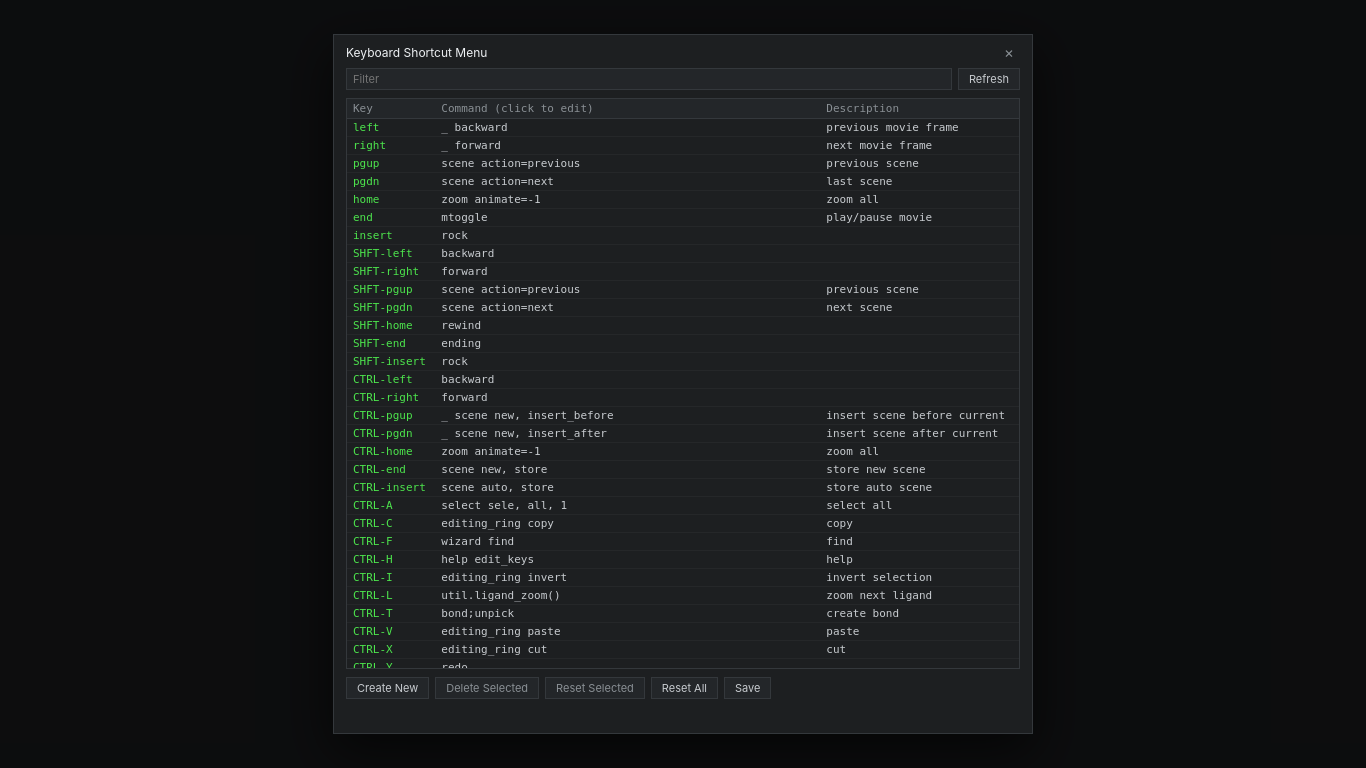
Scenario: row 455 — the filterable three-column table › Refresh re-reads the LIVE bindings, not the compiled-in defaults
The image size is (1366, 768).
Click the button "Refresh": (989, 79) [958, 68, 1020, 90]
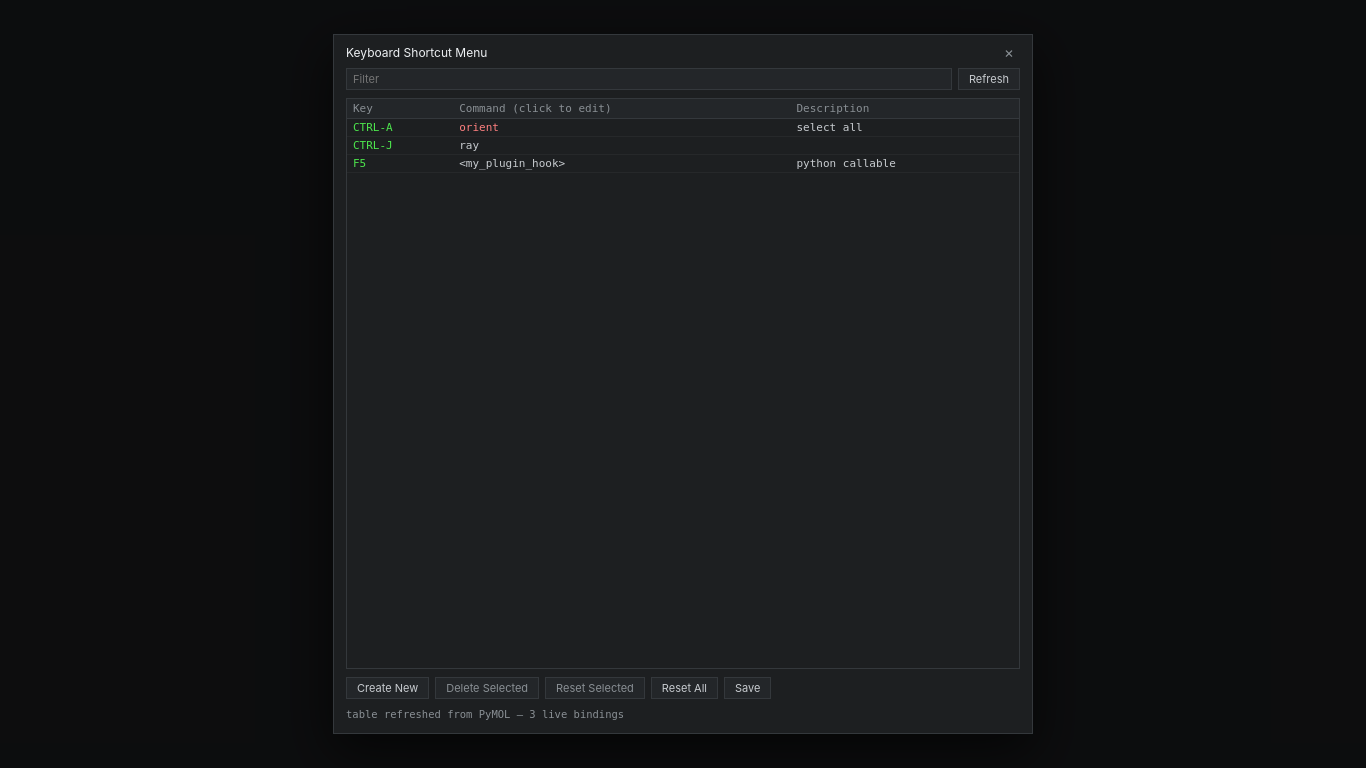
Check: the cell "orient" is shown, box [453, 118, 790, 136]
Check: the text with test id "shortcut-status" shows "3 live bindings", box [346, 708, 624, 720]
